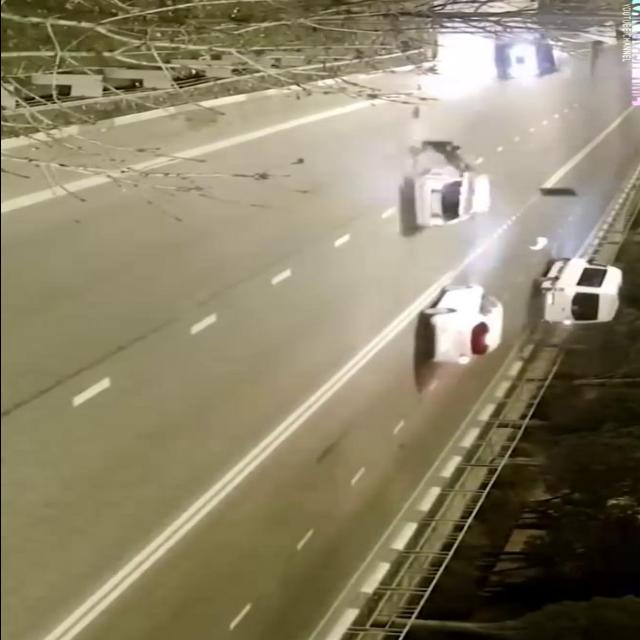accident: (382, 132, 516, 240)
